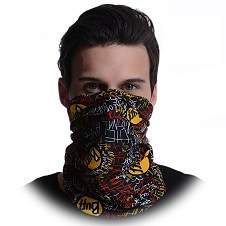face_mask: (70, 44, 151, 154)
